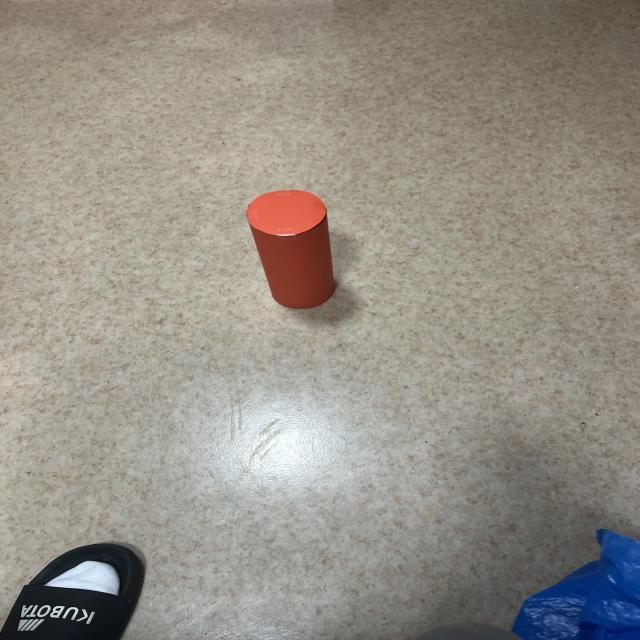przeszkoda: (247, 190, 334, 309)
